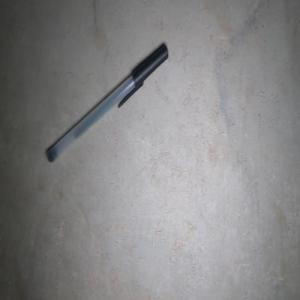Pen: (47, 44, 168, 162)
